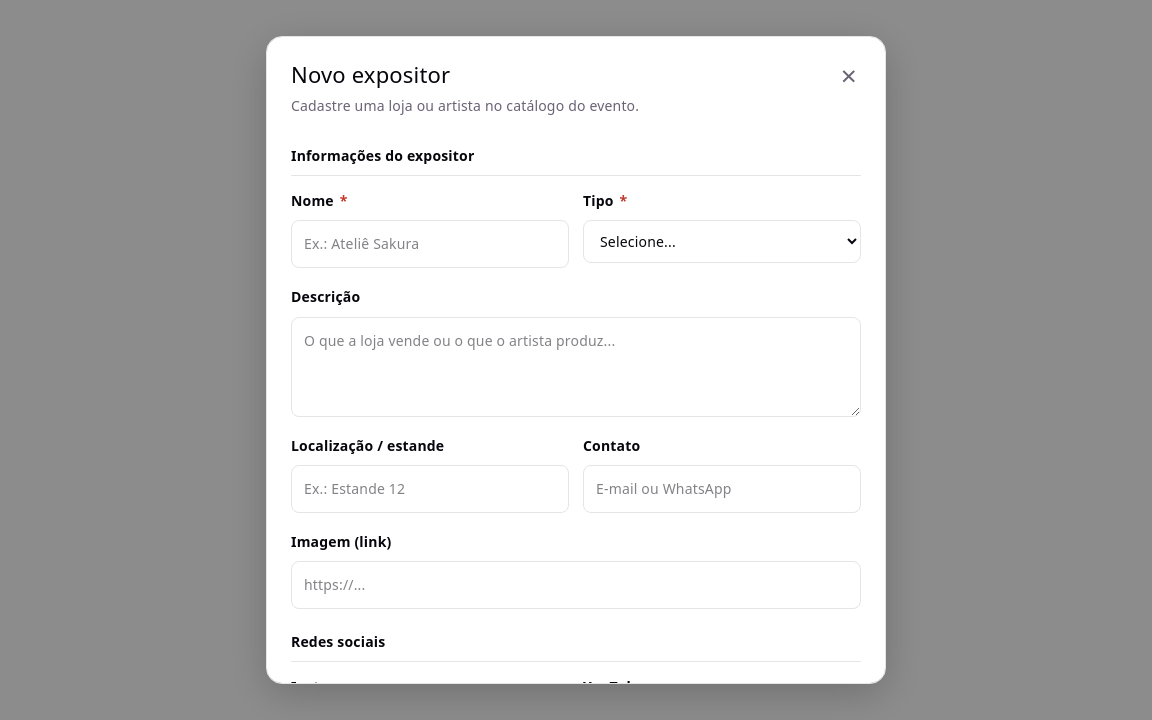
Test: ExpositorForm › cadastro › exige o tipo
Type "Loja X" into the field with id "nome" at (430, 244), box 291,220 -> 569,268
(page scrolled)
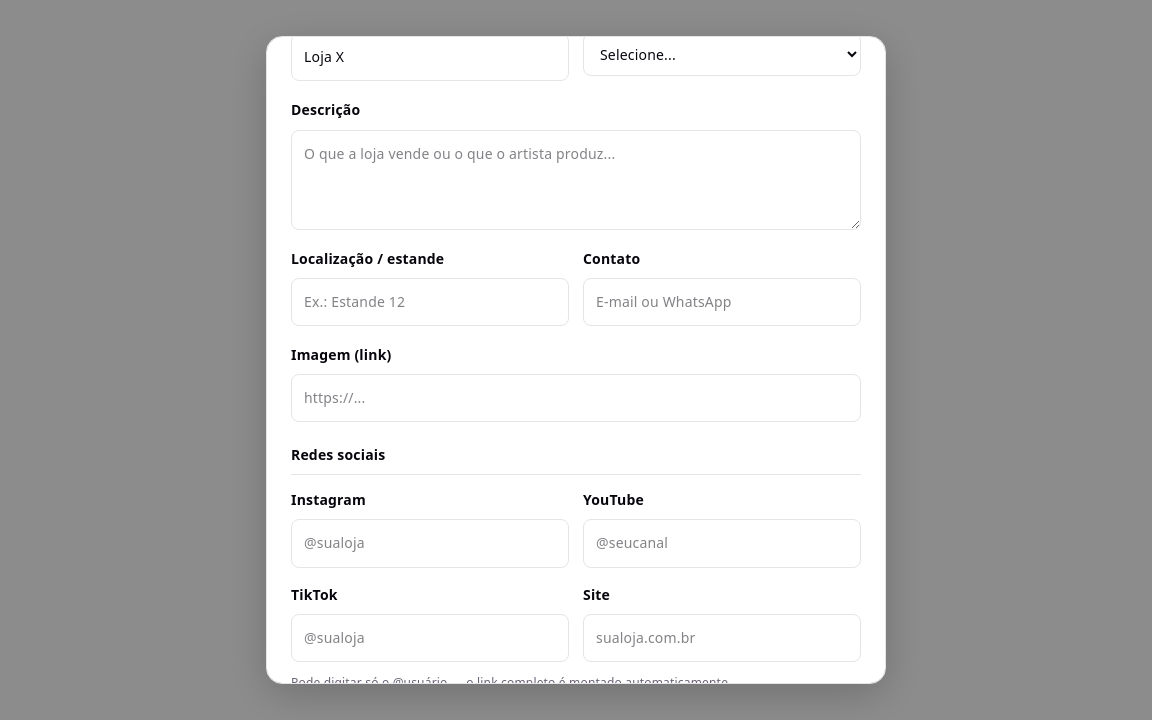
Submit the form
(page scrolled)
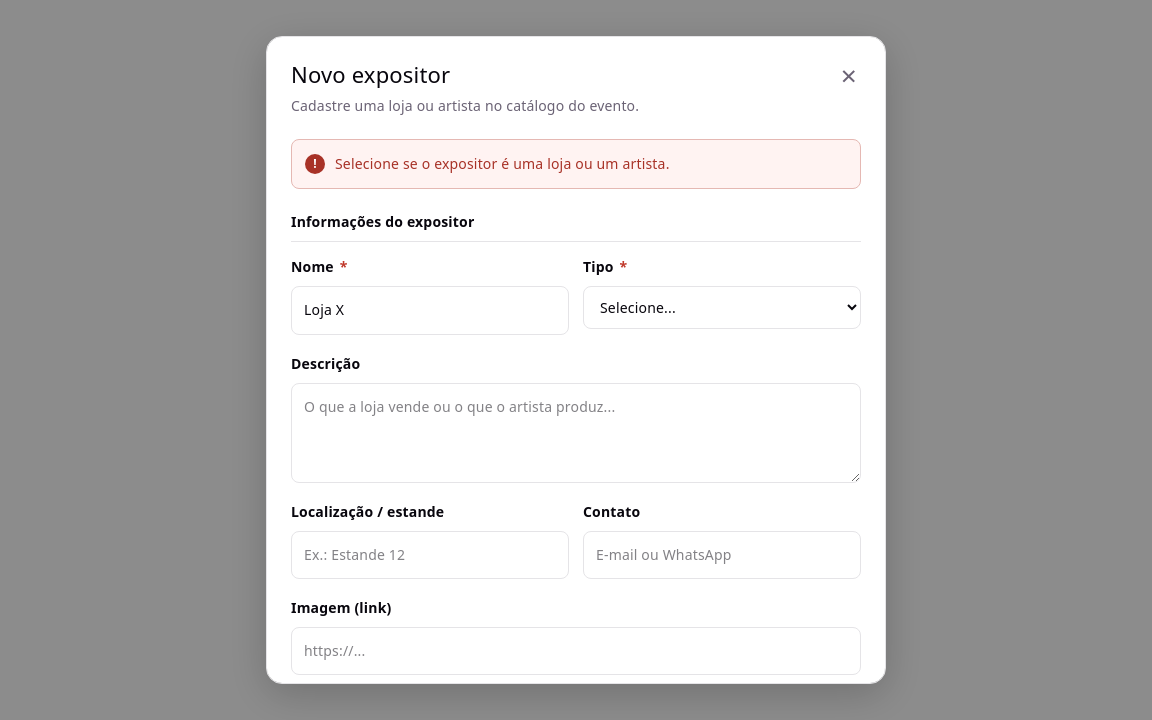
Expected: the message shows "Selecione se o expositor é uma loja ou um artista.", 335,154 -> 670,173
